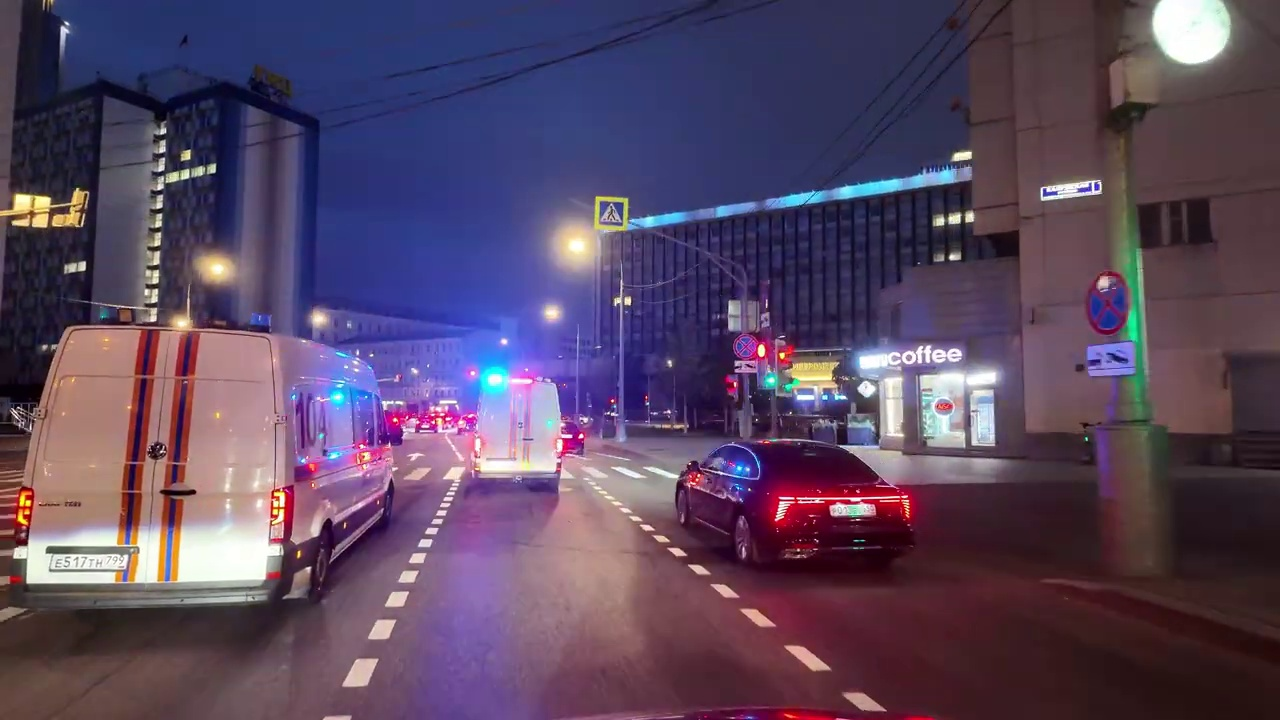acesa: (1152, 4, 1224, 69), (559, 226, 596, 266), (196, 253, 236, 286), (306, 308, 333, 332), (541, 300, 564, 325)
